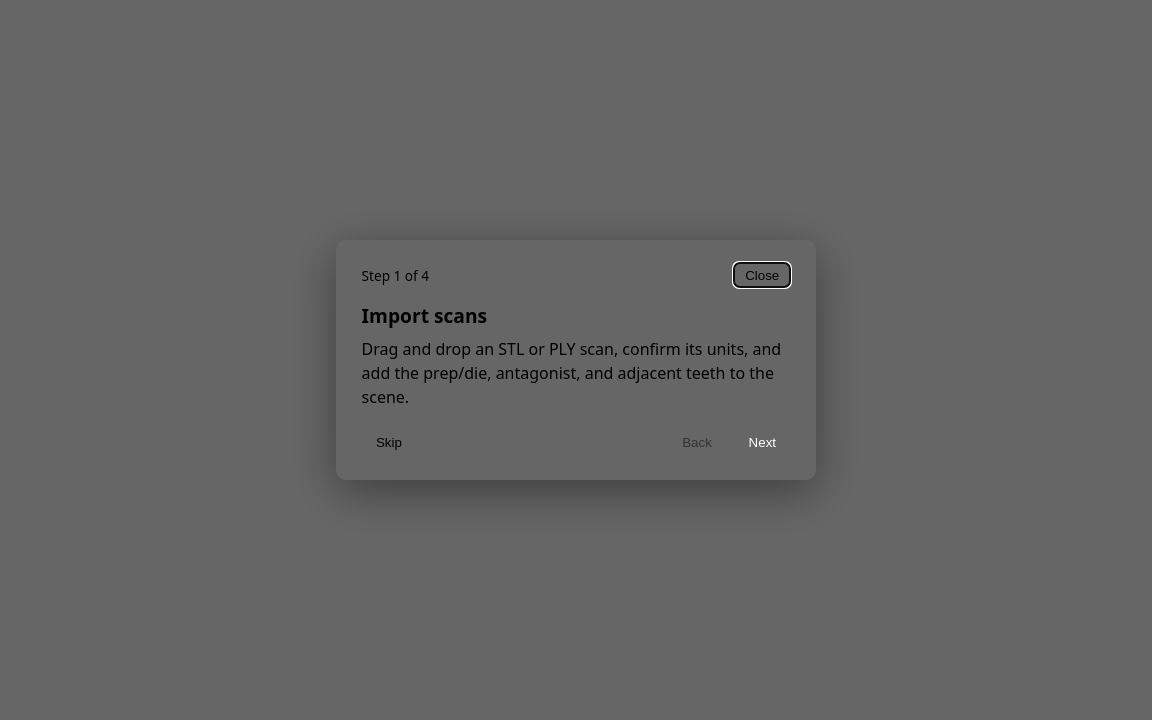
Test case: OnboardingTour › walks forward and back through the steps to the Done control
Check: the dialog with test id "onboarding-tour" is shown, box [336,240,816,480]
Click the button with test id "onboarding-tour-next" at (762, 443), box [734,428,790,457]
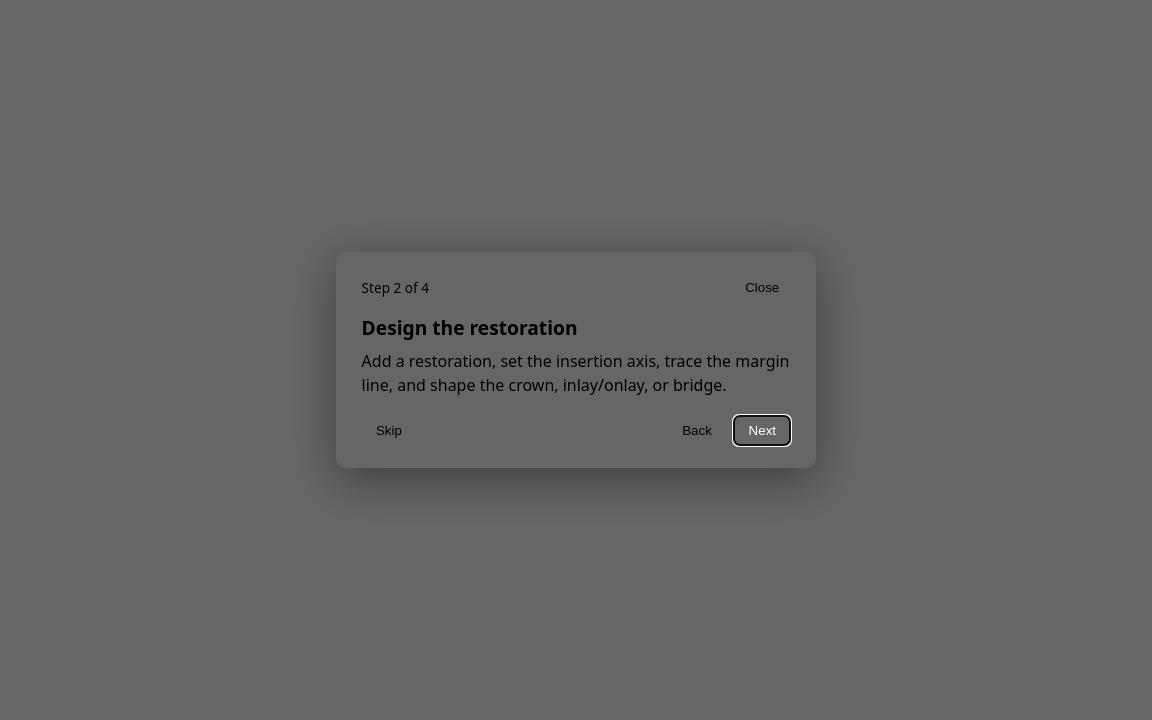
Check: the text with test id "onboarding-tour-progress" shows "2", box [362,278,429,296]
Click the button with test id "onboarding-tour-back" at (697, 431), box [668,416,726,445]
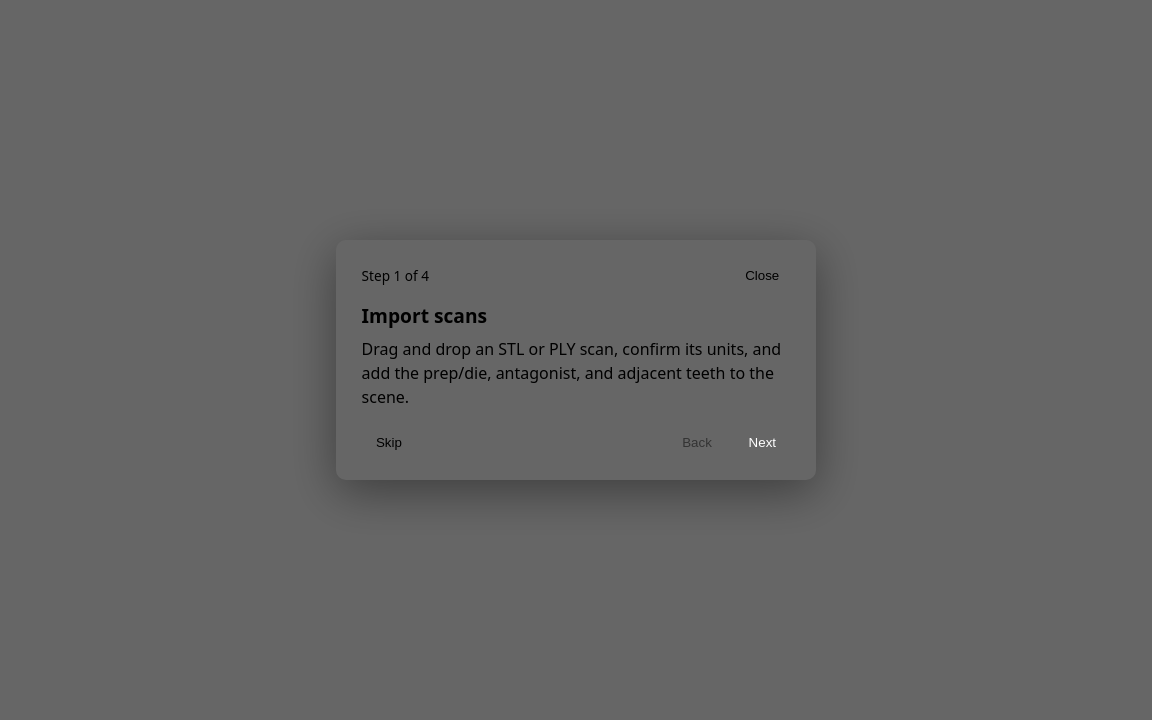
Check: the text with test id "onboarding-tour-progress" shows "1", box [362,266,429,284]
# Advance to the last step: Next appears as Done there.
Click the button with test id "onboarding-tour-next" at (762, 443), box [734,428,790,457]
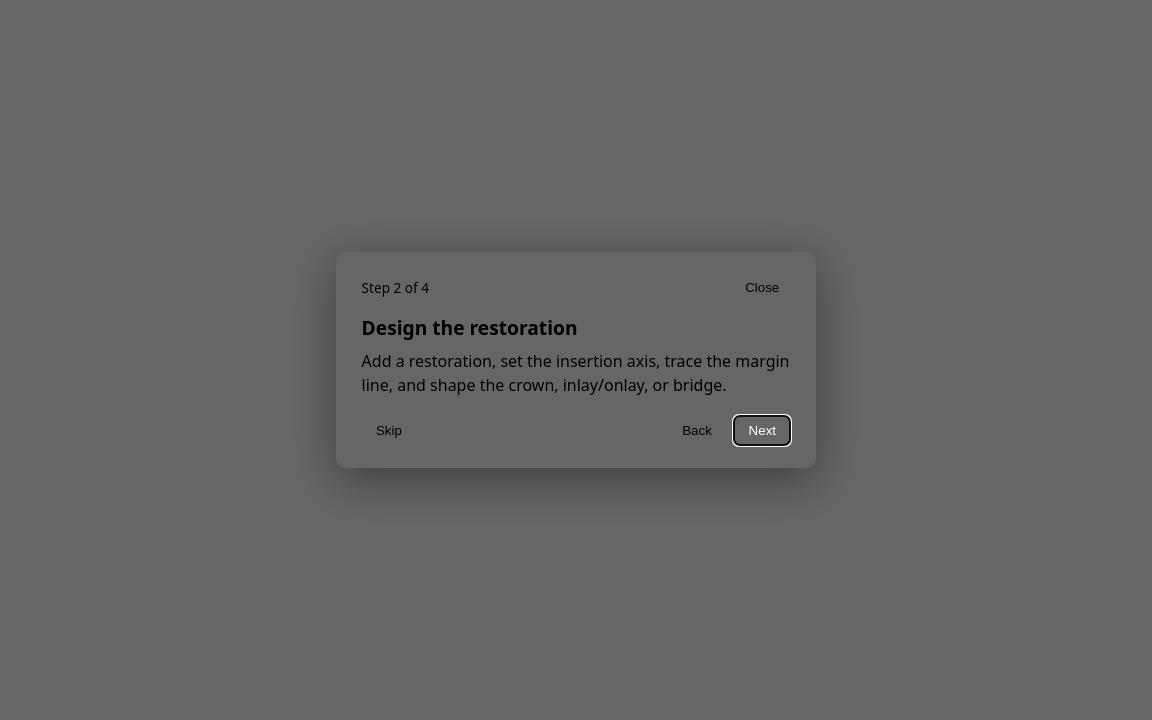
Click the button with test id "onboarding-tour-next" at (762, 431), box [734,416,790,445]
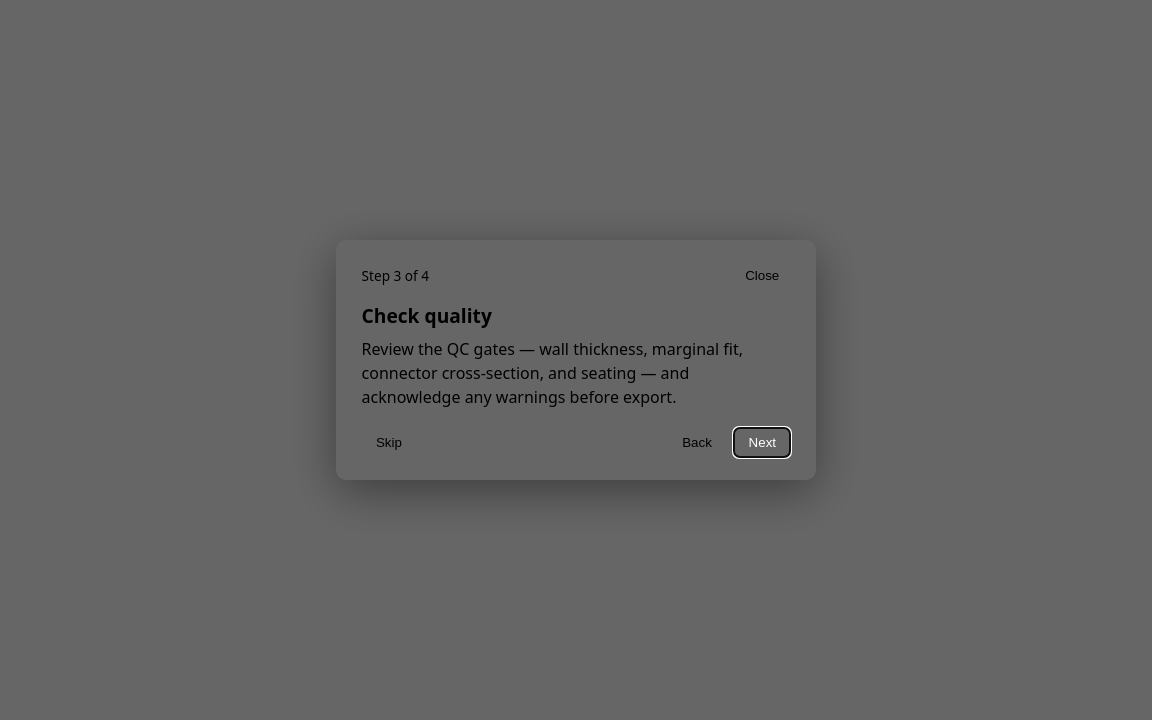
Click the button with test id "onboarding-tour-next" at (762, 443), box [734,428,790,457]
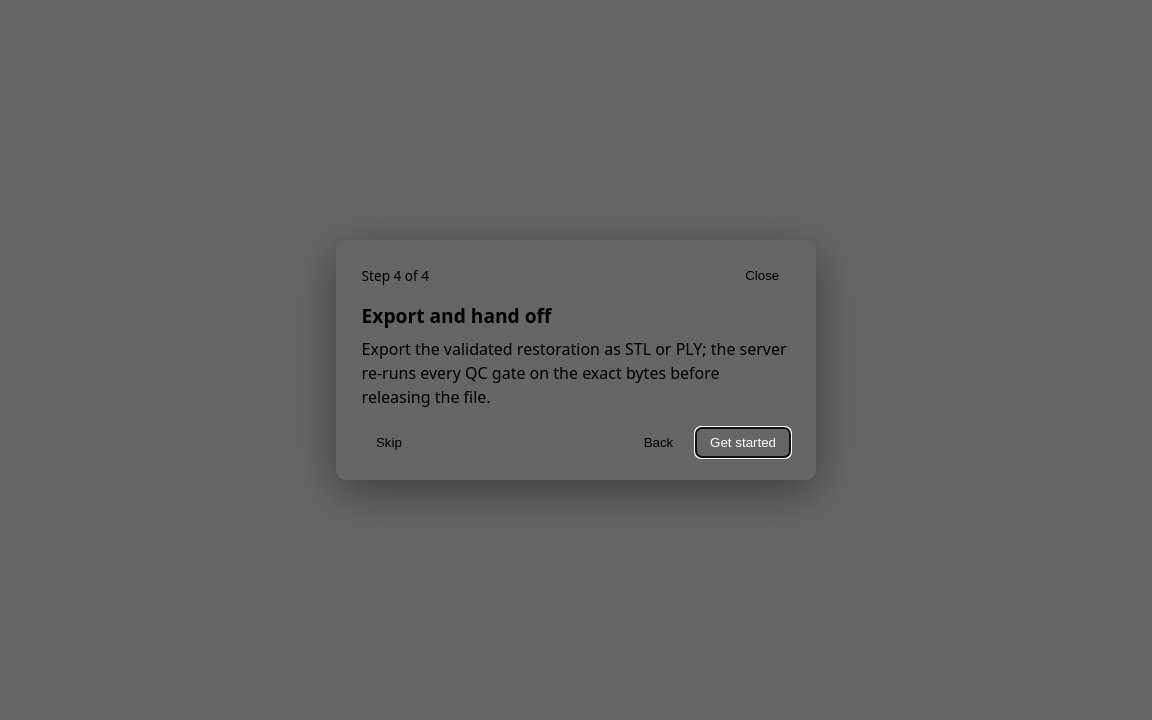
Check: the text with test id "onboarding-tour-progress" shows "4", box [362,266,429,284]
Check: the button with test id "onboarding-tour-done" is shown, box [696,428,790,457]
